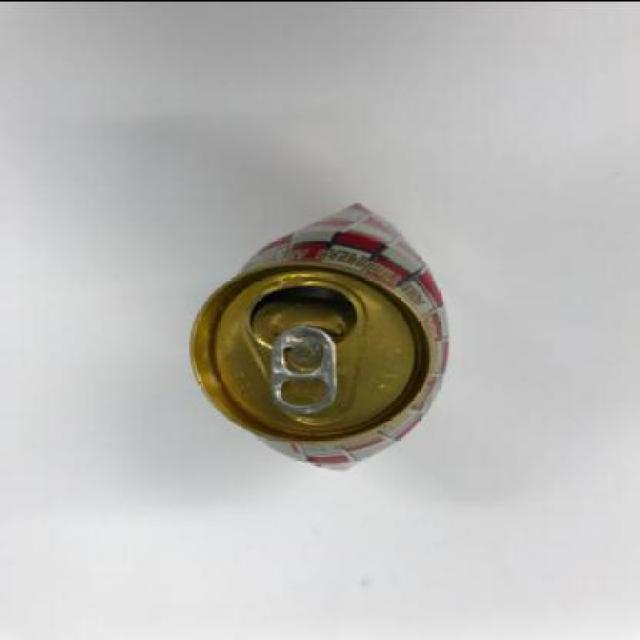METAL: (189, 202, 453, 470)
